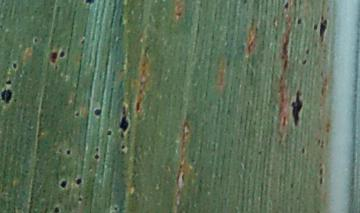tarspot: (291, 90, 302, 125), (319, 15, 328, 42), (1, 88, 12, 105), (119, 116, 129, 131), (49, 52, 58, 63), (59, 179, 67, 189), (93, 108, 102, 116), (11, 62, 18, 71), (75, 177, 82, 186), (296, 17, 303, 26), (59, 49, 66, 57), (53, 206, 61, 213), (120, 143, 127, 151), (106, 129, 113, 136), (79, 37, 86, 44), (77, 195, 83, 203), (284, 1, 289, 10), (318, 167, 323, 176), (84, 1, 95, 5), (93, 153, 99, 160), (301, 58, 307, 65), (312, 23, 318, 30), (113, 205, 118, 213), (320, 140, 325, 148), (319, 176, 323, 185), (5, 80, 12, 85), (305, 48, 310, 55), (302, 147, 306, 155), (66, 149, 71, 155), (241, 1, 248, 5), (75, 111, 80, 116), (34, 38, 38, 43), (95, 148, 100, 152)
